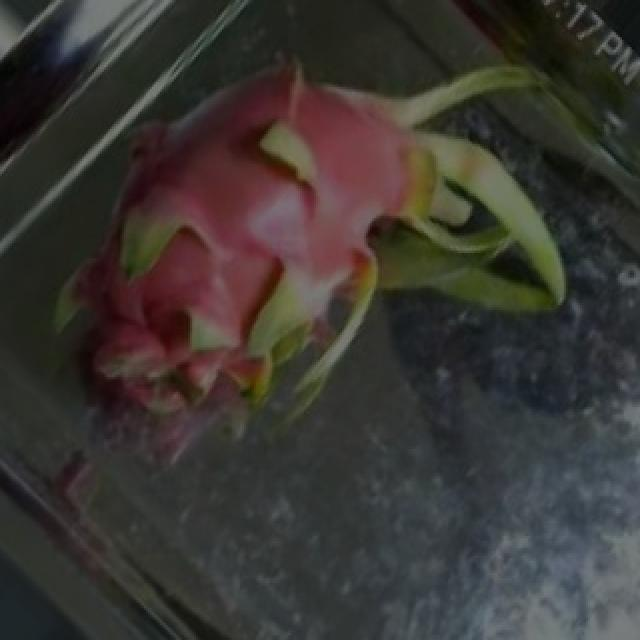fruit: (182, 0, 616, 427), (0, 2, 350, 474)
